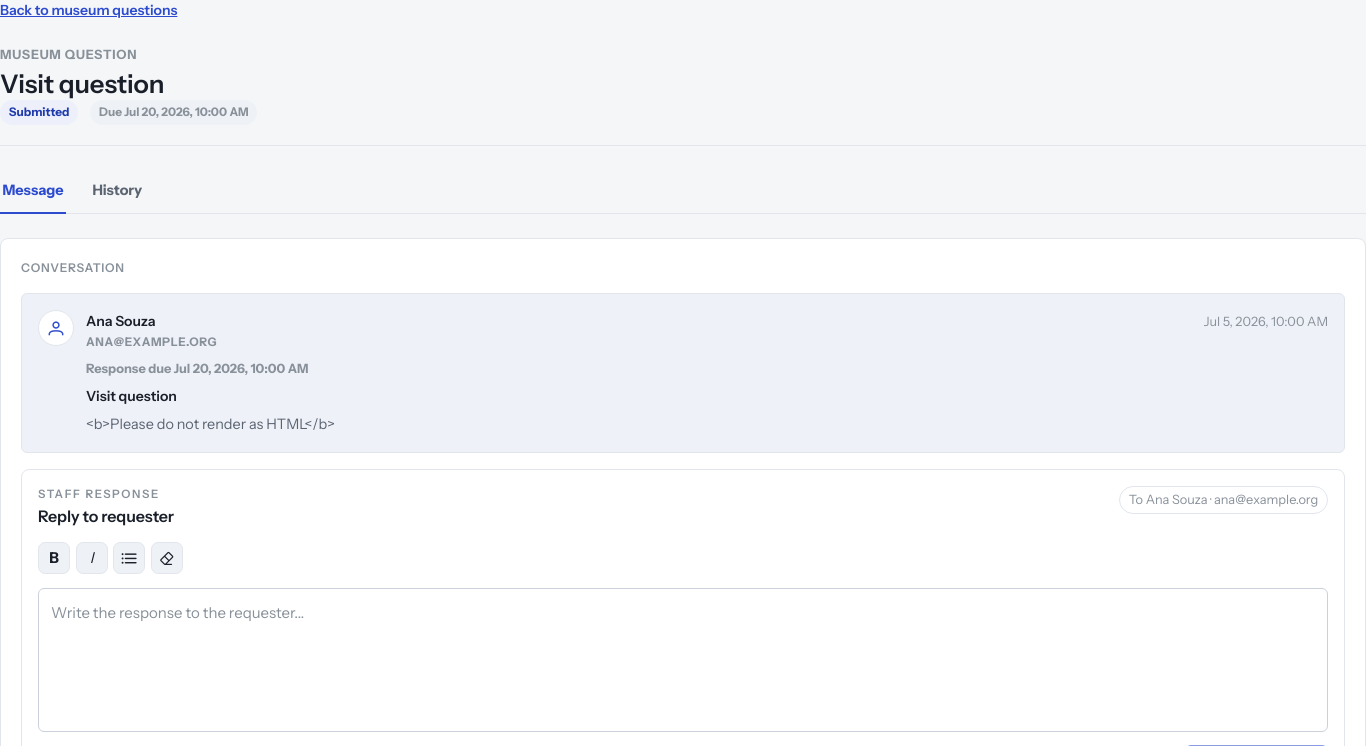
Test: MuseumQuestionDetailPageComponent › lists previous messages from the same requester email in the history tab
What coordinates should you click on to do the following:
click the tab with id "history-tab"
I would click on:
 (117, 192)
Its box is [90,170,144,214].
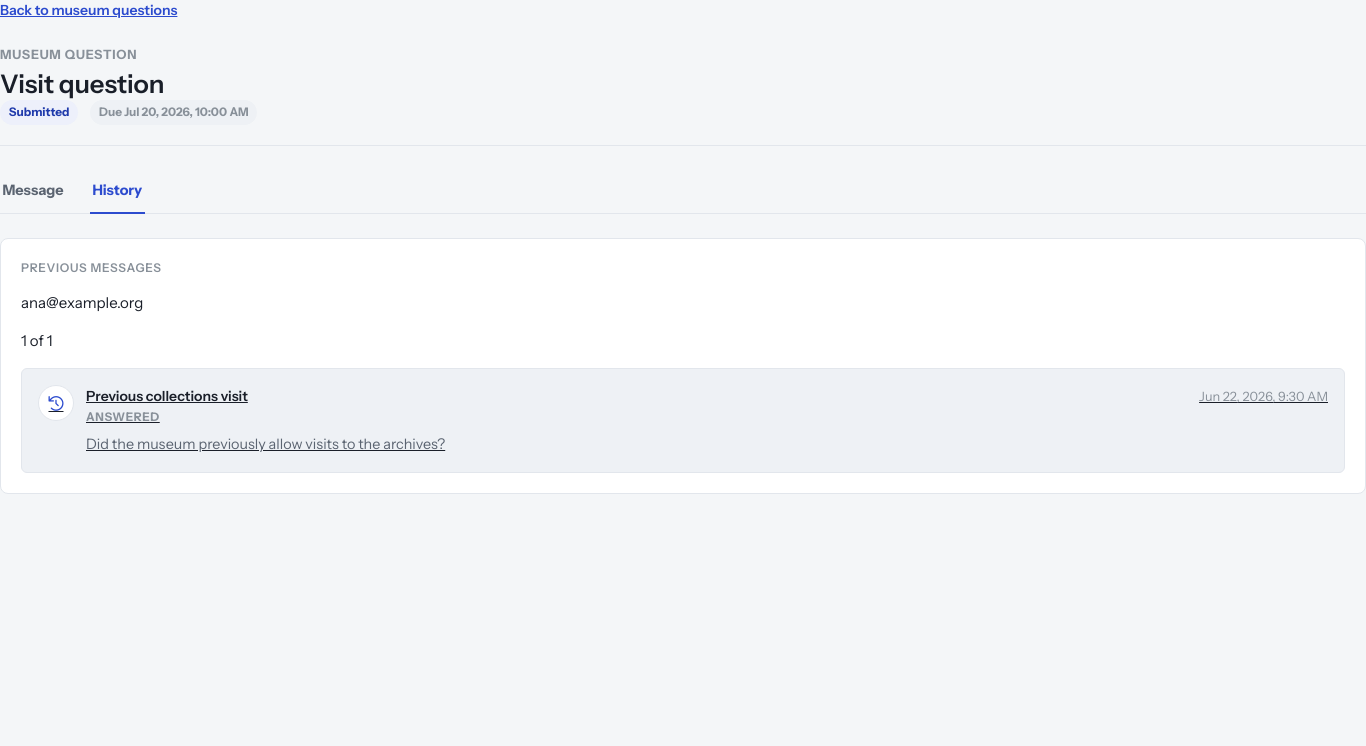
Result: the text "Previous messages" is shown at [21,260,162,275]
Result: the text "Previous collections visit" is shown at [86,387,248,405]
Result: the text "Did the museum previously allow visits to the archives?" is shown at [86,435,445,453]
